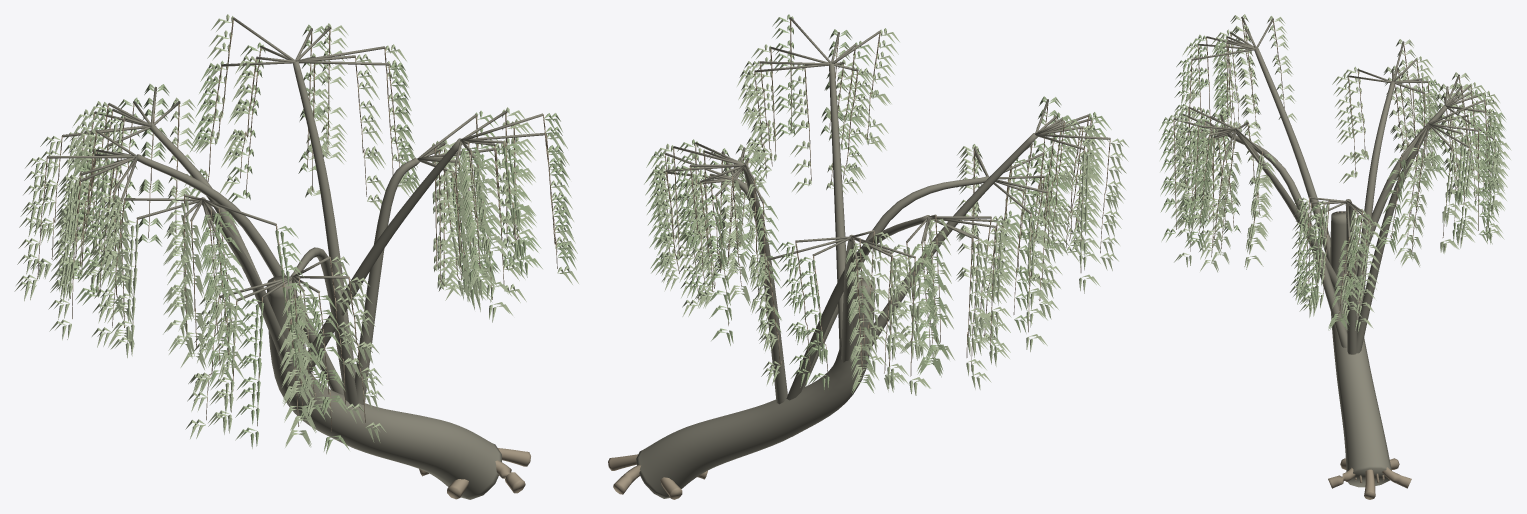
File: grove-willow-1.glb
3 renders of one model, left to right at view 1: azimuth 30°, elevation 25°; view 2: azimuth 150°, elevation 25°; view 3: azimuth 270°, elevation 25°, orthographic. The views are drawn at different scales.
Visible parts, largest first — view 1: grove-willow-1; view 2: grove-willow-1; view 3: grove-willow-1.
Part boxes in pixels (left/top/right/bottom): grove-willow-1: left=14, top=14, right=578, bottom=499; grove-willow-1: left=608, top=14, right=1128, bottom=499; grove-willow-1: left=1159, top=14, right=1511, bottom=499.
Size of the model in its own units: 7.54 by 6.8 by 6.34.
